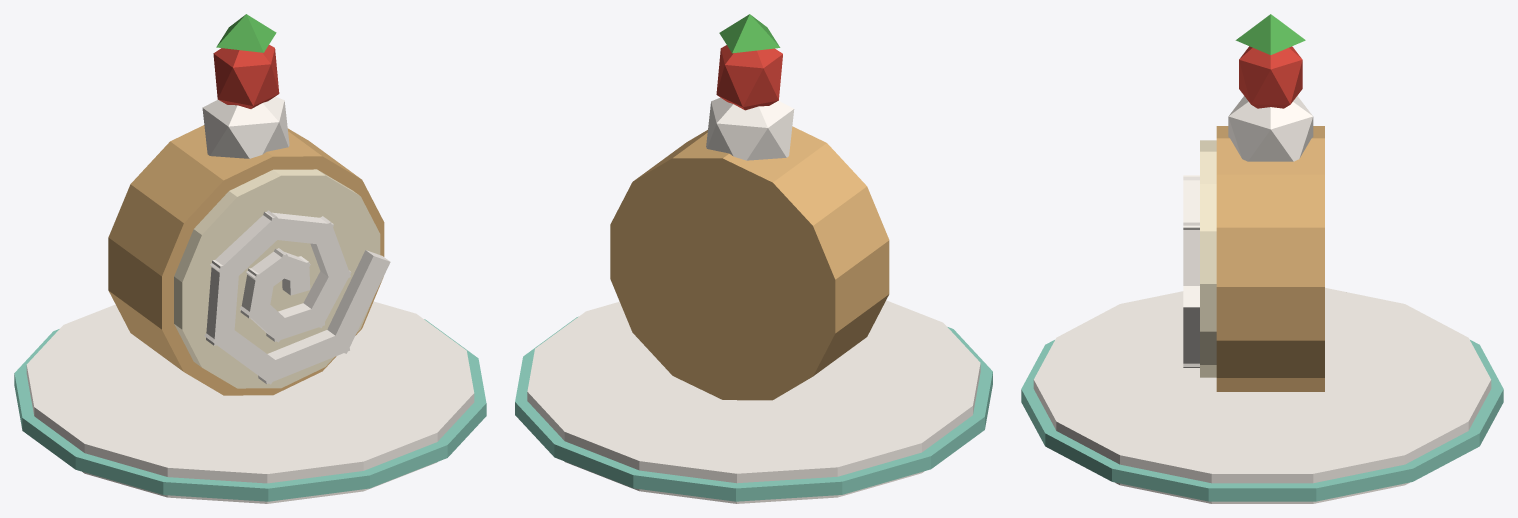
The model's file is CatCafe_Menu_StrawberryRoll.glb.
3 views of the same model, side by side, from view 1: azimuth 30°, elevation 25°; view 2: azimuth 150°, elevation 25°; view 3: azimuth 270°, elevation 25° (orthographic).
Parts seen in each view (by area): view 1: CatCafe_Menu_StrawberryRoll, CatCafe_Menu_StrawberryRoll_Plate; view 2: CatCafe_Menu_StrawberryRoll, CatCafe_Menu_StrawberryRoll_Plate; view 3: CatCafe_Menu_StrawberryRoll_Plate, CatCafe_Menu_StrawberryRoll.
Boxes of the visible parts, <box> form: CatCafe_Menu_StrawberryRoll: <box>108,14,390,395</box>; CatCafe_Menu_StrawberryRoll_Plate: <box>14,301,486,503</box>; CatCafe_Menu_StrawberryRoll: <box>610,14,889,400</box>; CatCafe_Menu_StrawberryRoll_Plate: <box>515,300,992,503</box>; CatCafe_Menu_StrawberryRoll_Plate: <box>1021,287,1503,503</box>; CatCafe_Menu_StrawberryRoll: <box>1183,14,1324,391</box>.
Bounding box in the file's own units: 1.13 × 1.09 × 1.16.
Materials: 1 (1 with a texture image).
